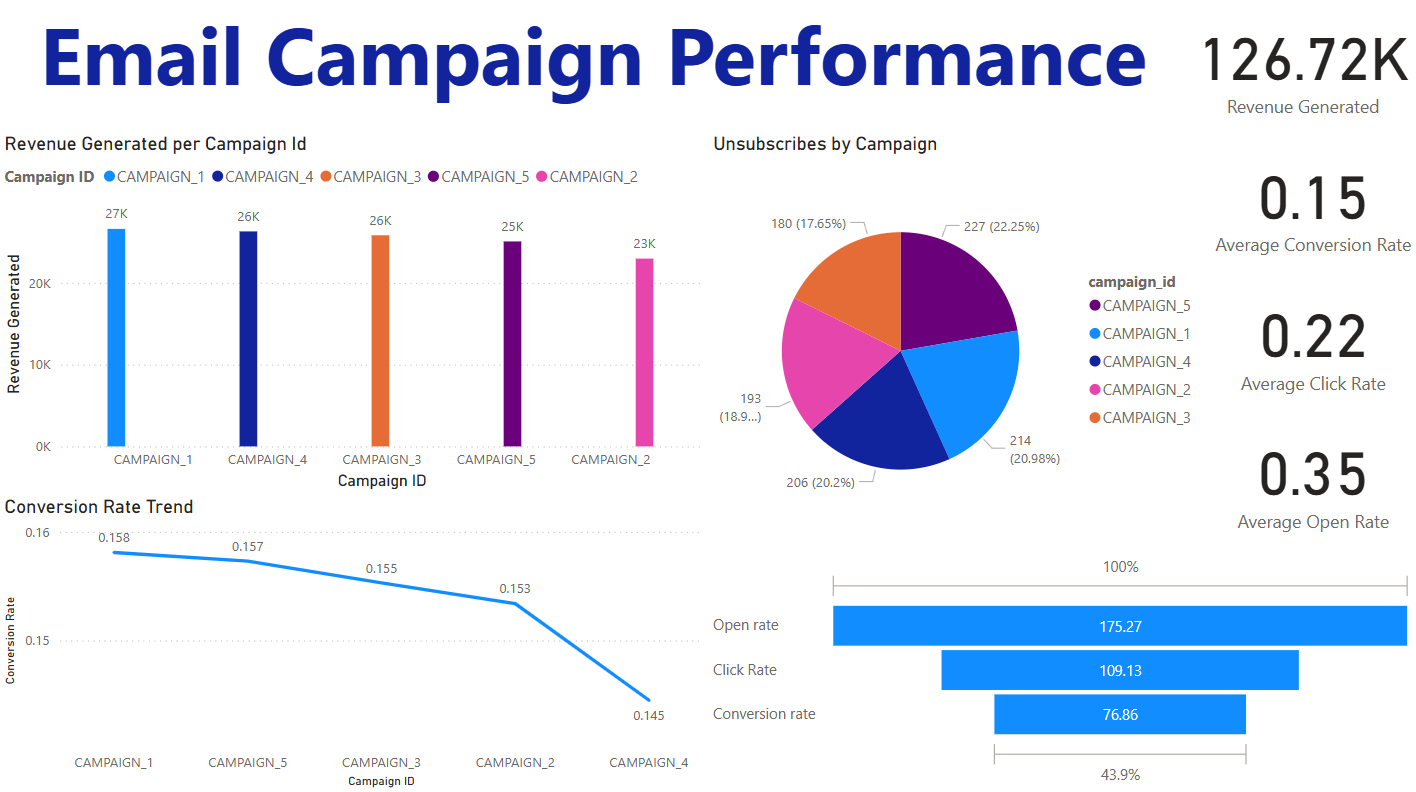

What the dashboard file says about the page in this screenshot:
{"tool":"powerbi","page":{"name":"Page 1","canvas":[1280,720],"ordinal":0},"visuals":[{"type":"card","fields":{"Values":["Avg(email_campaign_performance_for_dashboard.open_rate)"]},"box":[1089.5,374.6,190.7,124.9],"z":0},{"type":"card","fields":{"Values":["Avg(email_campaign_performance_for_dashboard.click_rate)"]},"box":[1089.5,249.7,190.7,124.9],"z":1000},{"type":"card","fields":{"Values":["Avg(email_campaign_performance_for_dashboard.conversion_rate)"]},"box":[1089.5,124.9,190.7,124.9],"z":2000},{"type":"card","fields":{"Values":["Sum(email_campaign_performance_for_dashboard.revenue_generated)"]},"box":[1071.7,0,208.6,124.9],"z":3000},{"type":"clusteredColumnChart","title":"Revenue Generated per Campaign Id","fields":{"Category":["email_campaign_performance_for_dashboard.campaign_id"],"Y":["Sum(email_campaign_performance_for_dashboard.revenue_generated)"],"Series":["email_campaign_performance_for_dashboard.campaign_id"]},"box":[0,124.9,639.5,326.6],"z":4000},{"type":"funnel","fields":{"Y":["Sum(email_campaign_performance_for_dashboard.open_rate)","Sum(email_campaign_performance_for_dashboard.click_rate)","Sum(email_campaign_performance_for_dashboard.conversion_rate)"]},"box":[639.5,499.5,640.8,220.9],"z":5000},{"type":"lineChart","title":"Conversion Rate Trend","fields":{"Category":["email_campaign_performance_for_dashboard.campaign_id"],"Y":["Avg(email_campaign_performance_for_dashboard.conversion_rate)"]},"box":[0,451.5,639.5,269],"z":6000},{"type":"pieChart","title":"Unsubscribes by Campaign","fields":{"Y":["Sum(email_campaign_performance_for_dashboard.unsubscribes)"],"Category":["email_campaign_performance_for_dashboard.campaign_id"]},"box":[639.5,124.9,450.1,374.6],"z":7000},{"type":"textbox","box":[0,0,1071.7,112.5],"z":8000}]}

Visuals, with their boxes in screenshot pixels (x1, y1, x2, y2), scaled from the page's 1280x720 canvas onto the 1416x792 screenshot:
card - Avg(email_campaign_performance_for_dashboard.open_rate): x1=1205, y1=412, x2=1415, y2=549
card - Avg(email_campaign_performance_for_dashboard.click_rate): x1=1205, y1=275, x2=1415, y2=412
card - Avg(email_campaign_performance_for_dashboard.conversion_rate): x1=1205, y1=137, x2=1415, y2=275
card - Sum(email_campaign_performance_for_dashboard.revenue_generated): x1=1186, y1=0, x2=1415, y2=137
"Revenue Generated per Campaign Id" clusteredColumnChart: x1=0, y1=137, x2=707, y2=497
funnel - Sum(email_campaign_performance_for_dashboard.open_rate) x Sum(email_campaign_performance_for_dashboard.click_rate): x1=707, y1=549, x2=1415, y2=791
"Conversion Rate Trend" lineChart: x1=0, y1=497, x2=707, y2=791
"Unsubscribes by Campaign" pieChart: x1=707, y1=137, x2=1205, y2=549
textbox: x1=0, y1=0, x2=1186, y2=124
